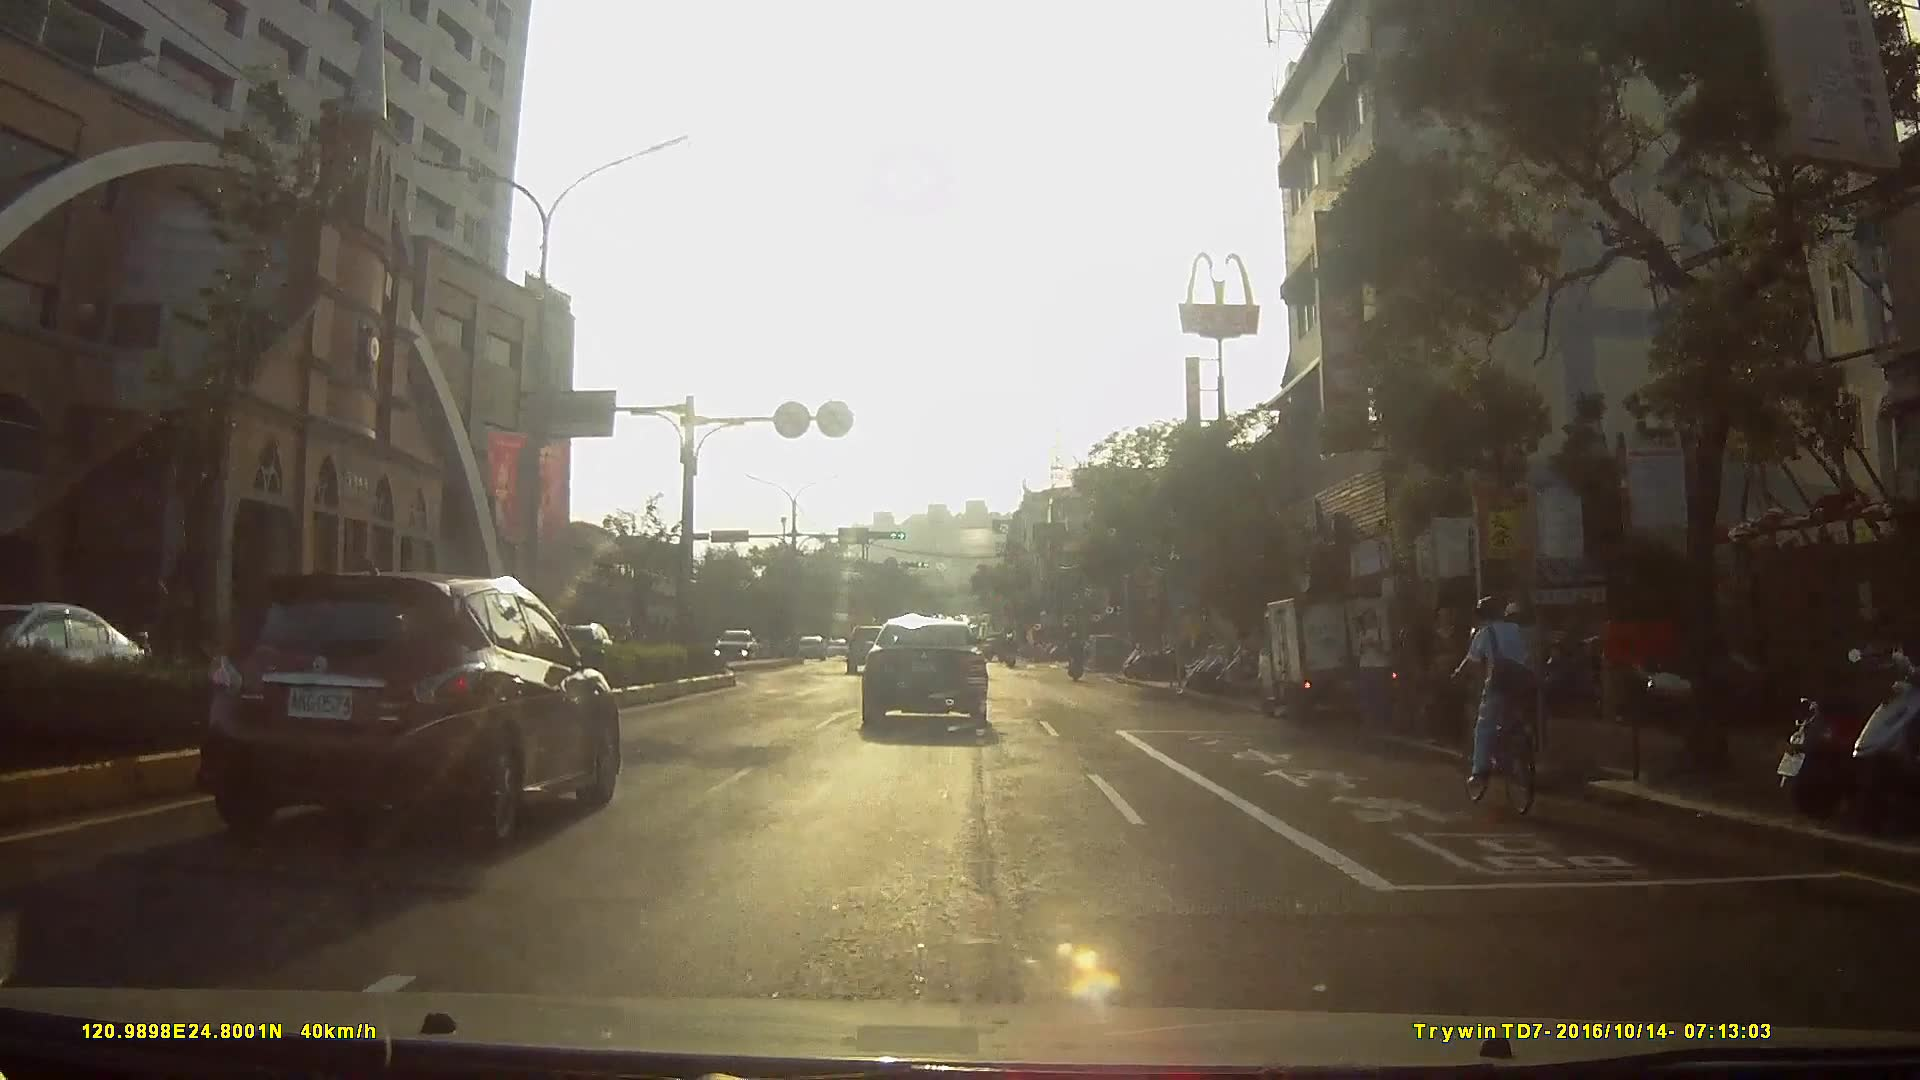pedestrian: (1493, 601, 1553, 758), (1420, 598, 1474, 750), (1353, 600, 1394, 728)
rider: (1440, 588, 1544, 818), (1066, 627, 1092, 685)
vehicle: (183, 564, 632, 839), (1247, 585, 1414, 730), (861, 610, 1006, 736), (842, 619, 901, 674), (707, 624, 760, 664), (789, 631, 822, 663)
